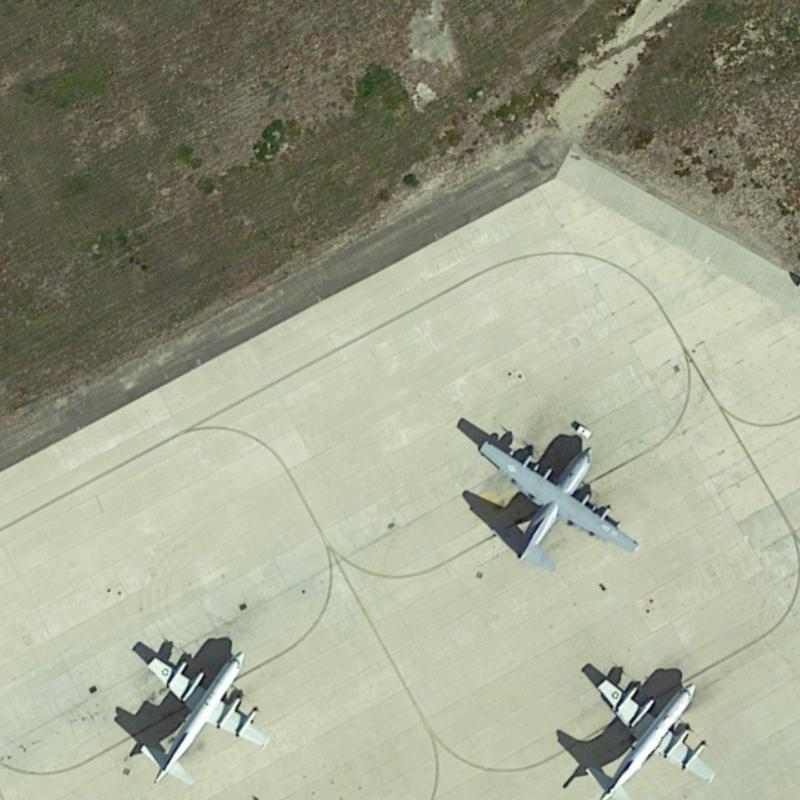A2: (466, 427, 643, 582)
A9: (131, 638, 275, 787), (578, 666, 718, 799)
